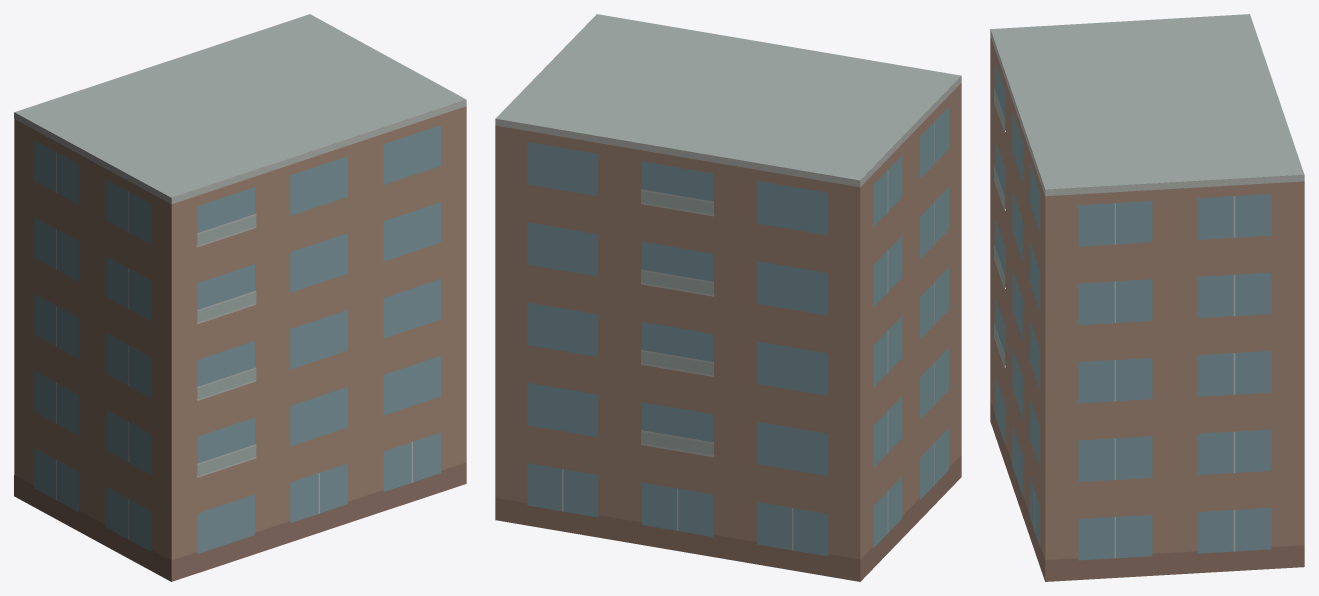
File: survey-upis-32708422.glb
3 renders of one model, left to right at view 1: azimuth 30°, elevation 25°; view 2: azimuth 150°, elevation 25°; view 3: azimuth 270°, elevation 25°, orthographic. The views are drawn at different scales.
Parts seen in each view (by area): view 1: survey-upis-32708422.tmp; view 2: survey-upis-32708422.tmp; view 3: survey-upis-32708422.tmp.
Part boxes in pixels (x1,y1,x2,y2): survey-upis-32708422.tmp: (14,14,466,581); survey-upis-32708422.tmp: (495,14,961,581); survey-upis-32708422.tmp: (990,14,1304,581).
Size of the model in its own units: 13.79 by 14.36 by 10.43.
